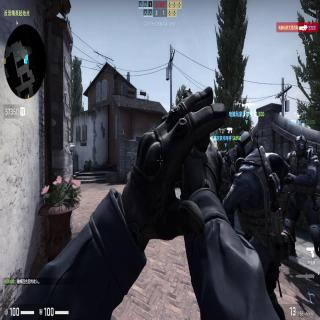CT-Head: (232, 129, 256, 161), (292, 135, 308, 160)
